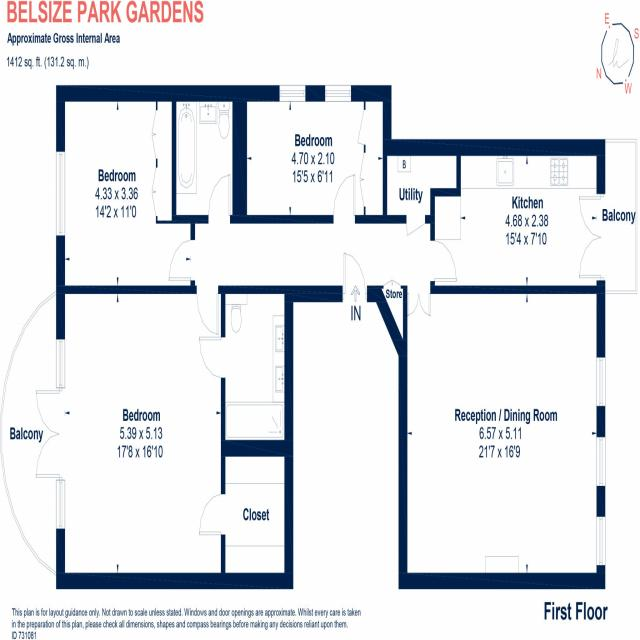DOOR: (166, 235, 195, 286), (206, 169, 233, 223), (341, 251, 368, 303), (331, 171, 357, 224), (194, 285, 221, 336), (430, 237, 458, 285), (197, 491, 226, 537), (198, 334, 225, 379)
ROOM: (398, 284, 606, 589), (34, 285, 226, 590), (55, 85, 196, 295), (430, 138, 606, 293)
WINDOW: (55, 146, 66, 238), (595, 353, 606, 411), (595, 512, 606, 570), (55, 476, 66, 532), (595, 434, 606, 490), (55, 336, 66, 390), (324, 84, 352, 105), (278, 84, 307, 103)
